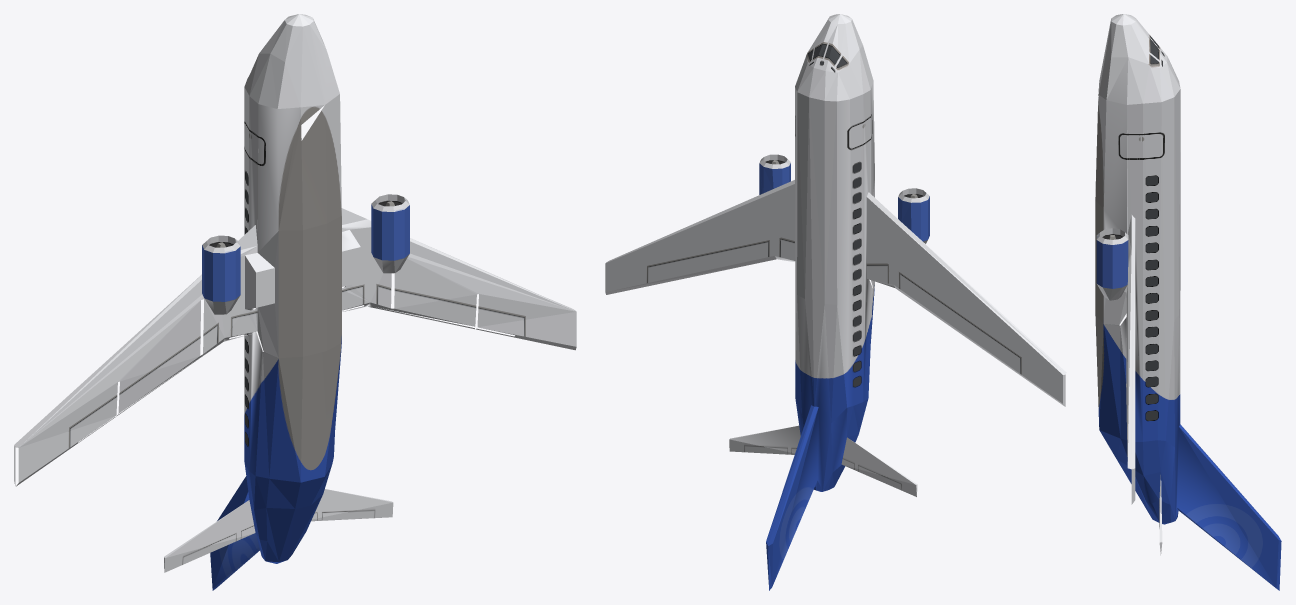
Rendered from Airplane-cleaned.rotated.glb.
3 views of the same model, side by side, from view 1: azimuth 30°, elevation 25°; view 2: azimuth 150°, elevation 25°; view 3: azimuth 270°, elevation 25° (orthographic). The views are drawn at different scales.
Parts seen in each view (by area): view 1: Airplane; view 2: Airplane; view 3: Airplane.
Boxes of the visible parts, <box> form: Airplane: <box>14,14,576,590</box>; Airplane: <box>605,14,1066,590</box>; Airplane: <box>1095,14,1281,590</box>.
Bounding box in the file's own units: 0.9131 × 0.997 × 0.2914.
1 material, 1 textured.
